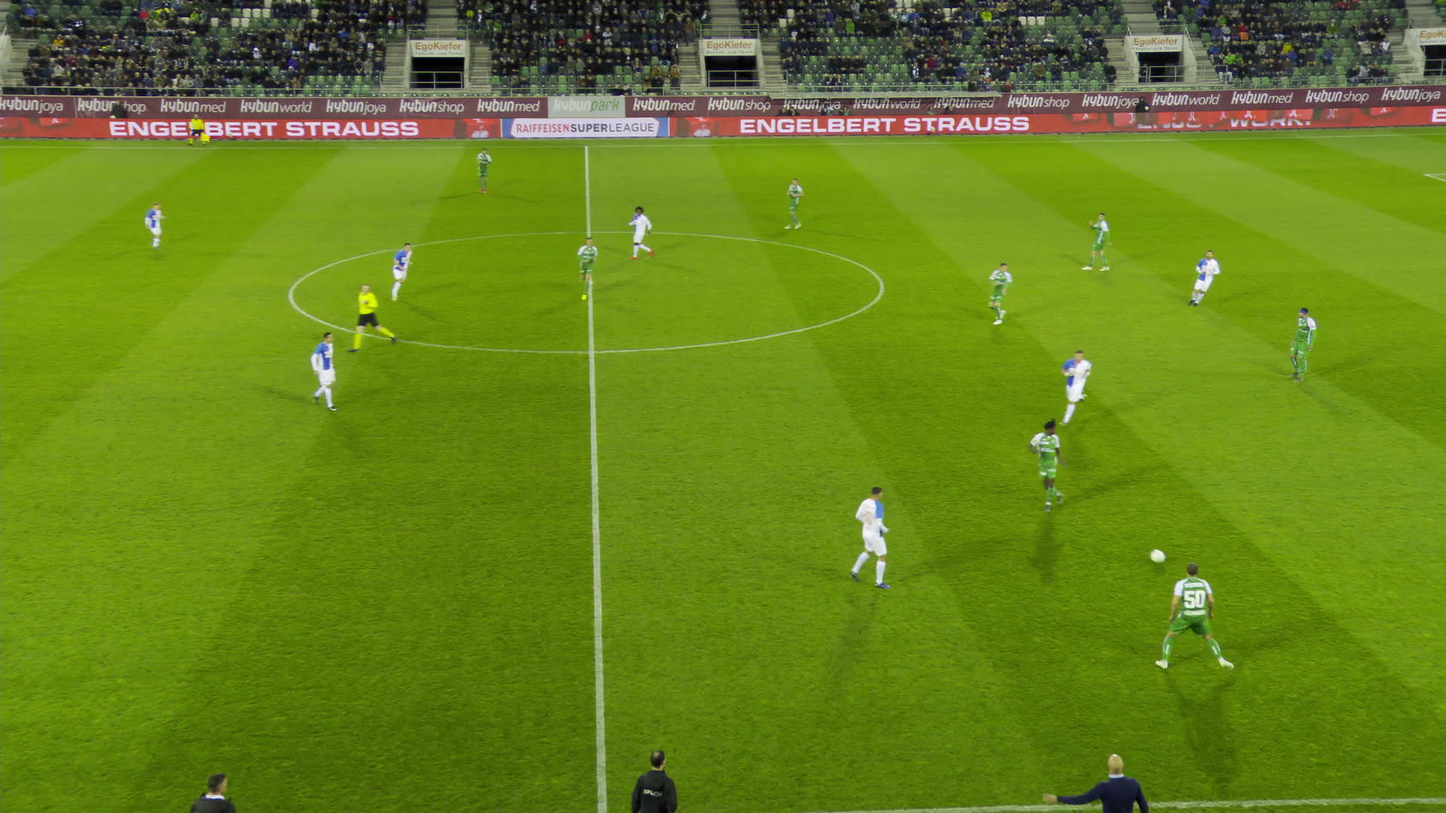ball: (1149, 548, 1160, 559)
player: (1153, 558, 1226, 670), (848, 486, 897, 590), (1027, 420, 1066, 510), (1059, 349, 1092, 427), (309, 332, 340, 412), (1282, 305, 1312, 382), (1188, 250, 1220, 308), (1084, 212, 1111, 272), (988, 261, 1013, 325), (390, 245, 415, 303), (627, 206, 651, 260), (578, 237, 599, 298), (782, 178, 805, 229), (145, 201, 166, 249), (477, 148, 493, 193)
referee: (348, 284, 398, 354), (188, 114, 205, 146)
